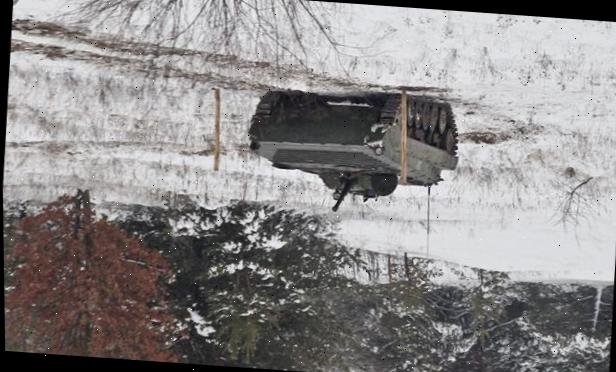tank: (241, 83, 464, 220)
